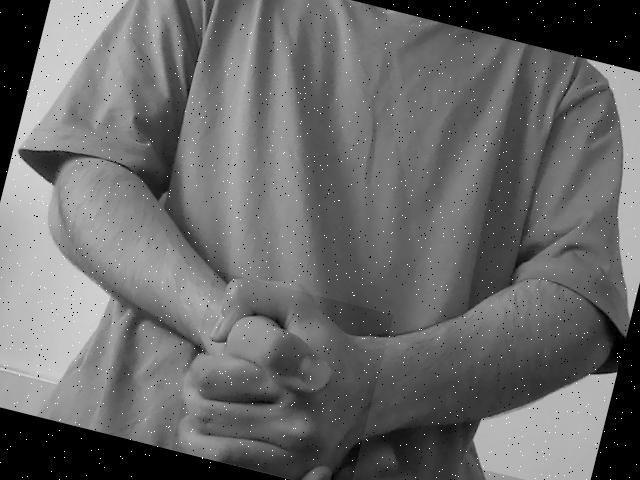friend: (173, 282, 372, 480)
